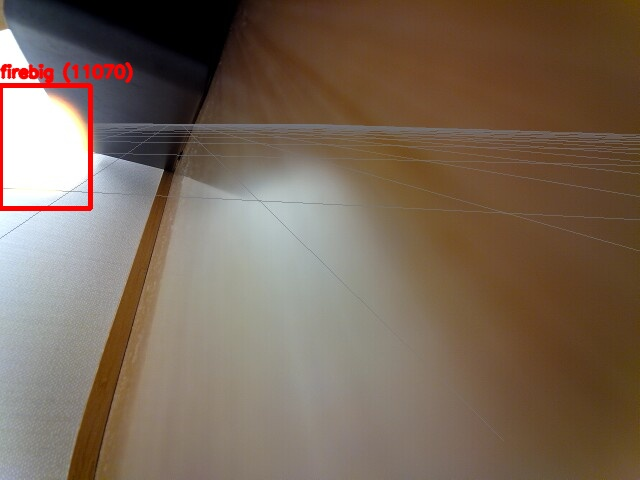firebig: (0, 85, 90, 208)
